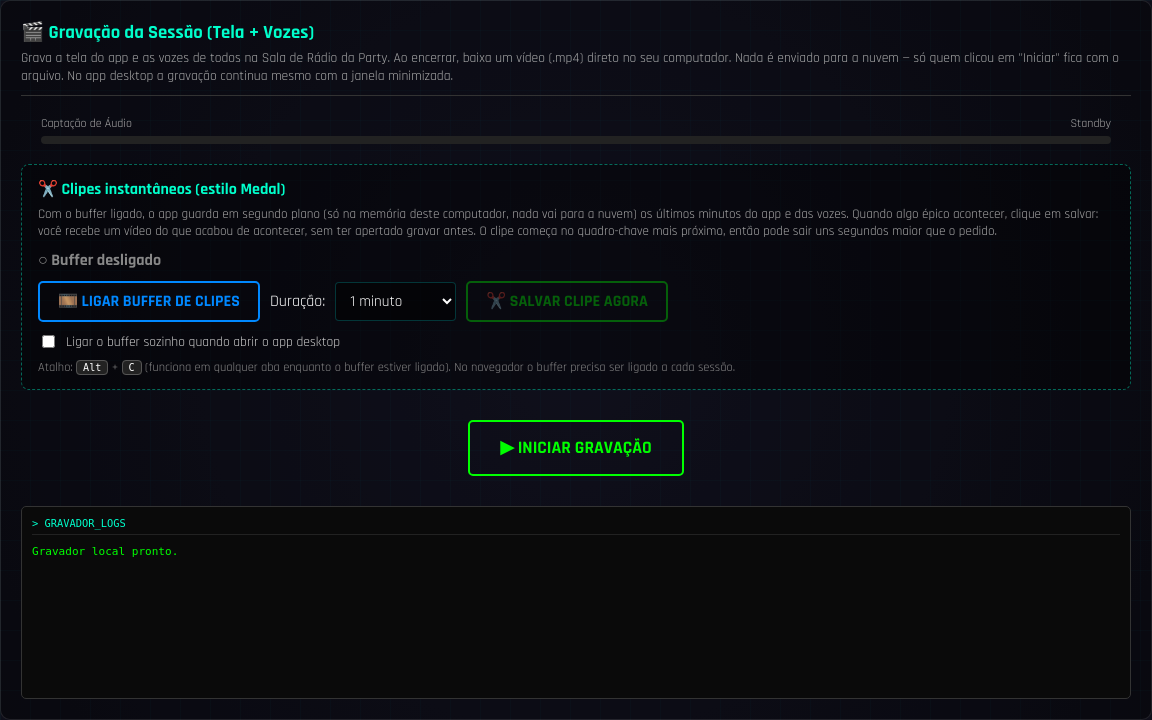
Test: GravadorPanel — tela do app e vozes da Sala de Rádio › falls back to audio-only when screen capture is denied
The width and height of the screenshot is (1152, 720).
Click the button "▶ INICIAR GRAVAÇÃO": (576, 448) [468,420,684,476]
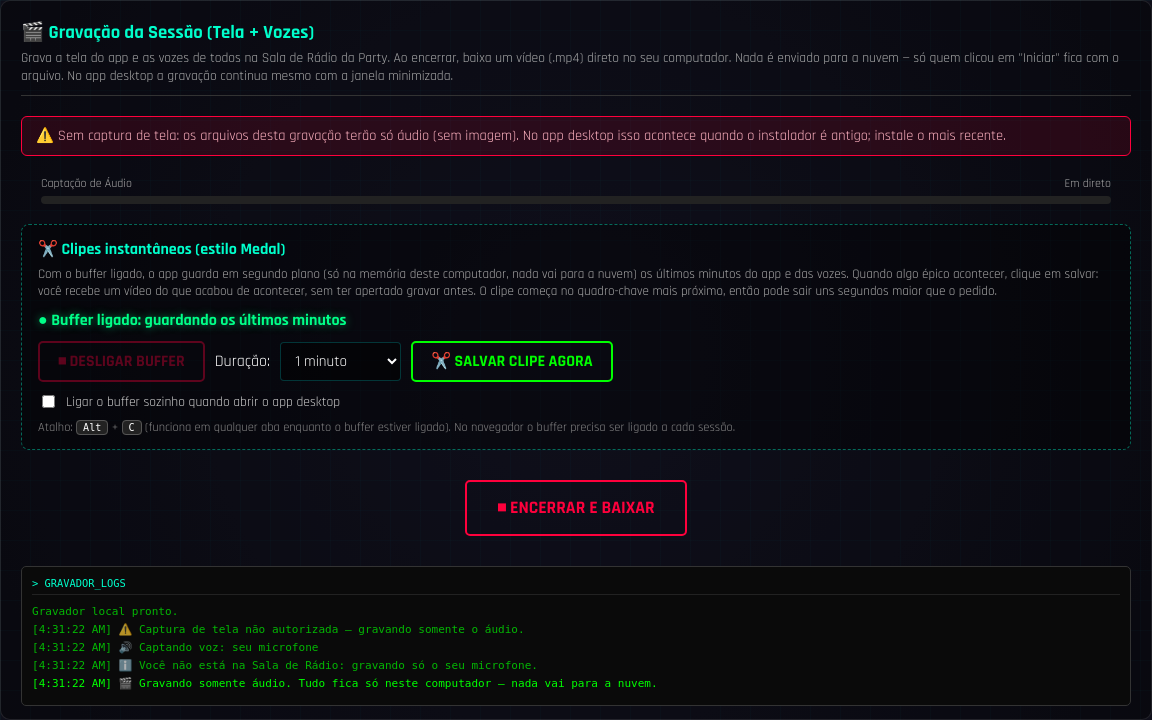
Expected: the text "gravando somente o áudio" is shown, [32,623,525,636]
